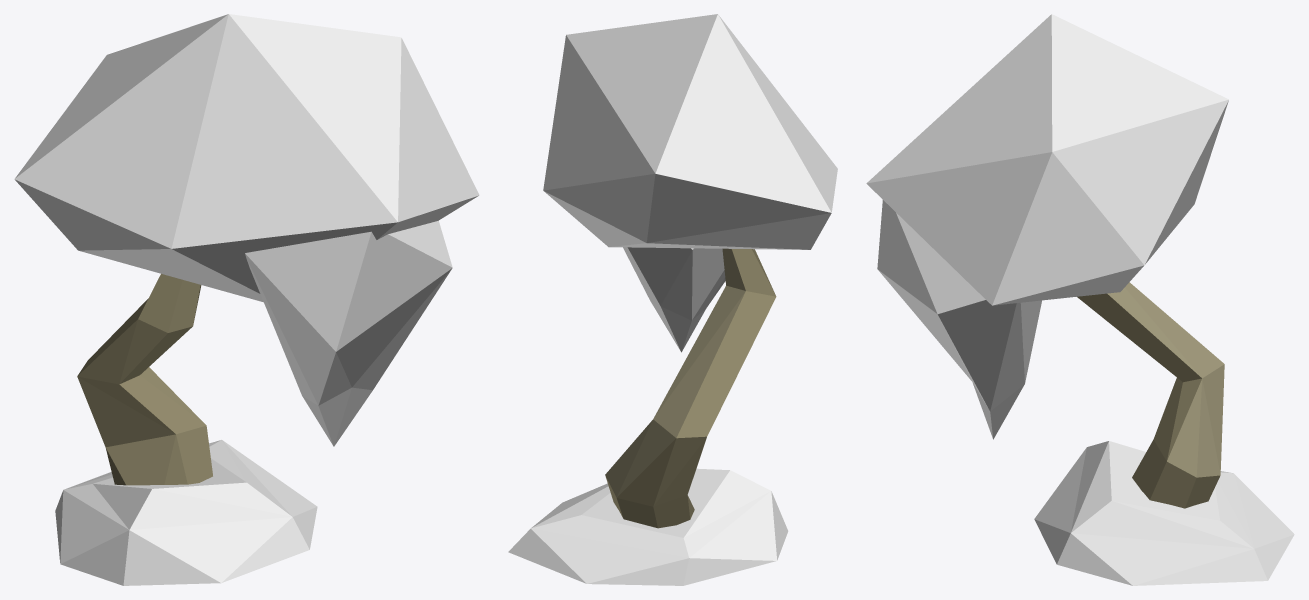
Rendered from TreeWinter3.fbx.
3 renders of one model, left to right at view 1: azimuth 30°, elevation 25°; view 2: azimuth 150°, elevation 25°; view 3: azimuth 270°, elevation 25°, orthographic. The views are drawn at different scales.
Visible parts, largest first — view 1: TreeWinter3; view 2: TreeWinter3; view 3: TreeWinter3.
Boxes of the visible parts, x1,y1,x2,y2 form: TreeWinter3: (14, 14, 479, 585); TreeWinter3: (508, 14, 837, 585); TreeWinter3: (866, 14, 1294, 585).
Size of the model in its own units: 1.24 by 1.69 by 1.28.
